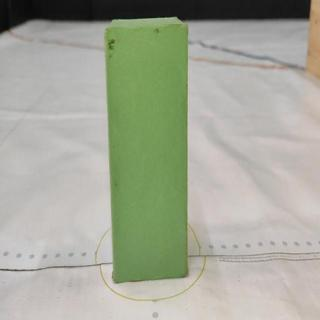greenbox: (107, 16, 189, 280)
